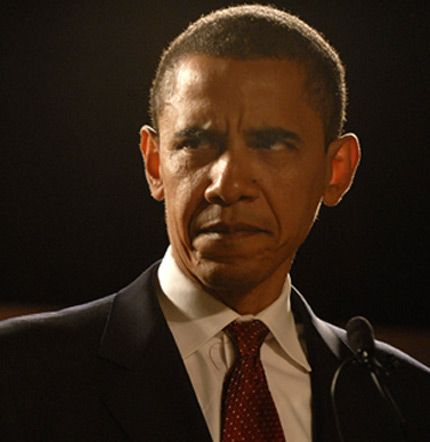angry: (162, 100, 312, 296)
